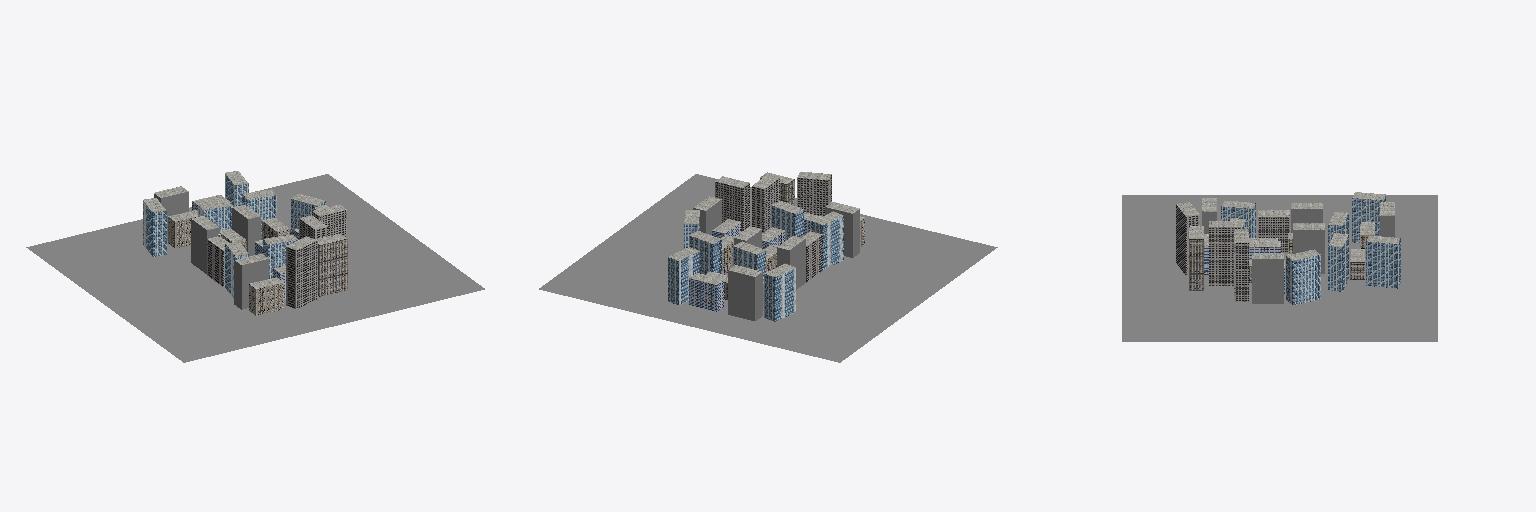
3 views of the same model, side by side, from view 1: azimuth 30°, elevation 25°; view 2: azimuth 150°, elevation 25°; view 3: azimuth 270°, elevation 25° (orthographic).
Visible parts, largest first — view 1: Plane001, Box043, Box035, Box036, Box031, Box039, Box020, Box015, Box033, Box013, Box025, Box021 (+7 smaller); view 2: Plane001, Box030, Box031, Box032, Box042, Box043, Box038, Box041, Box028, Box025, Box036, Box021 (+4 smaller); view 3: Plane001, Box032, Box040, Box041, Box024, Box025, Box031, Box042, Box043, Box015, Box013, Box035 (+2 smaller).
Boxes of the visible parts, box(x1,y1,x2,y2) form: Plane001: box(26, 174, 484, 362); Box043: box(286, 236, 317, 308); Box035: box(315, 233, 347, 296); Box036: box(234, 254, 268, 309); Box031: box(143, 198, 166, 256); Box039: box(249, 277, 283, 315); Box020: box(191, 216, 219, 273); Box015: box(232, 205, 260, 255); Box033: box(168, 210, 197, 248); Box013: box(207, 236, 228, 286); Box025: box(242, 189, 276, 239); Box021: box(263, 235, 297, 278); Plane001: box(539, 174, 997, 362); Box030: box(728, 265, 762, 320); Box031: box(764, 263, 795, 321); Box032: box(668, 247, 699, 304); Box042: box(715, 176, 749, 231); Box043: box(797, 172, 831, 216); Box038: box(812, 211, 843, 269); Box041: box(752, 175, 779, 232); Box028: box(689, 273, 723, 311); Box025: box(689, 231, 721, 274); Box036: box(825, 202, 859, 257); Box021: box(771, 201, 803, 240); Plane001: box(1122, 195, 1437, 341); Box032: box(1366, 235, 1400, 288); Box040: box(1286, 249, 1320, 304); Box041: box(1209, 221, 1240, 285); Box024: box(1252, 253, 1283, 303); Box025: box(1328, 233, 1348, 291); Box031: box(1352, 192, 1385, 242); Box042: box(1234, 229, 1248, 301); Box043: box(1176, 202, 1199, 274); Box015: box(1293, 223, 1324, 273); Box013: box(1258, 210, 1289, 252); Box035: box(1189, 226, 1203, 290).
Size of the model in its own units: 441 by 130 by 399.
10 materials, 7 textured.